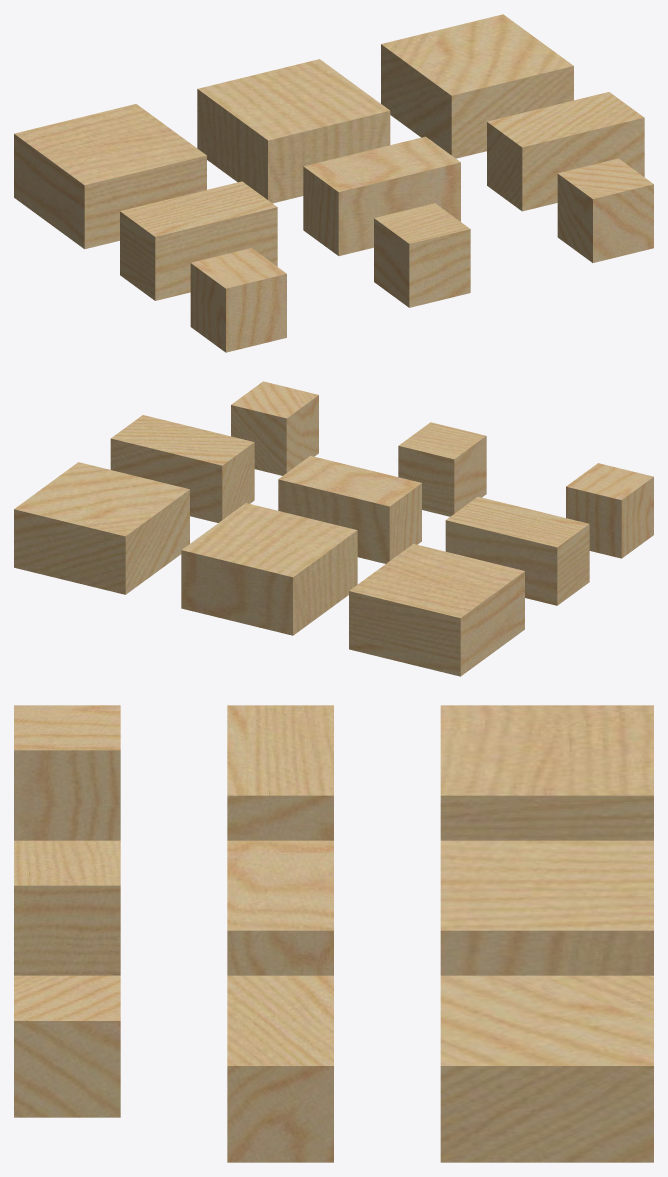
Rendered from woodtoolkit.glb.
3 views of the same model, one above another, from view 1: azimuth 30°, elevation 25°; view 2: azimuth 150°, elevation 25°; view 3: azimuth 270°, elevation 25° (orthographic). The views are drawn at different scales.
Visible parts, largest first — view 1: 2x2_1, 2x2_2, 2x2_3, 2x1_1, 2x1_3, 2x1_2, 1x1_2, 1x1_1, 1x1_3; view 2: 2x2_2, 2x2_1, 2x2_3, 2x1_1, 2x1_3, 2x1_2, 1x1_1, 1x1_2, 1x1_3; view 3: 2x2_3, 2x2_1, 2x2_2, 2x1_3, 1x1_3, 1x1_1, 2x1_1, 1x1_2, 2x1_2.
Boxes of the visible parts, left/top/right/bottom form: 2x2_1: left=14, top=104, right=206, bottom=249; 2x2_2: left=197, top=59, right=390, bottom=203; 2x2_3: left=381, top=14, right=573, bottom=158; 2x1_1: left=120, top=181, right=277, bottom=300; 2x1_3: left=487, top=92, right=644, bottom=211; 2x1_2: left=303, top=136, right=460, bottom=255; 1x1_2: left=374, top=203, right=470, bottom=307; 1x1_1: left=190, top=248, right=286, bottom=352; 1x1_3: left=557, top=158, right=653, bottom=262; 2x2_2: left=181, top=503, right=357, bottom=635; 2x2_1: left=349, top=544, right=524, bottom=676; 2x2_3: left=14, top=462, right=189, bottom=594; 2x1_1: left=445, top=496, right=589, bottom=605; 2x1_3: left=110, top=415, right=254, bottom=522; 2x1_2: left=278, top=456, right=421, bottom=563; 1x1_1: left=566, top=463, right=653, bottom=558; 1x1_2: left=398, top=422, right=486, bottom=516; 1x1_3: left=231, top=381, right=318, bottom=475; 2x2_3: left=440, top=975, right=653, bottom=1162; 2x2_1: left=440, top=705, right=653, bottom=840; 2x2_2: left=440, top=840, right=653, bottom=975; 2x1_3: left=227, top=975, right=333, bottom=1162; 1x1_3: left=14, top=975, right=120, bottom=1117; 1x1_1: left=14, top=705, right=120, bottom=840; 2x1_1: left=227, top=705, right=333, bottom=840; 1x1_2: left=14, top=840, right=120, bottom=975; 2x1_2: left=227, top=840, right=333, bottom=975.
Size of the model in its own units: 8 by 1 by 6.
Materials: 1 (1 with a texture image).
